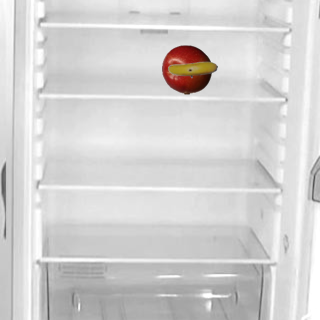Apple Braeburn: (161, 44, 211, 94)
Banana: (167, 44, 217, 94)
